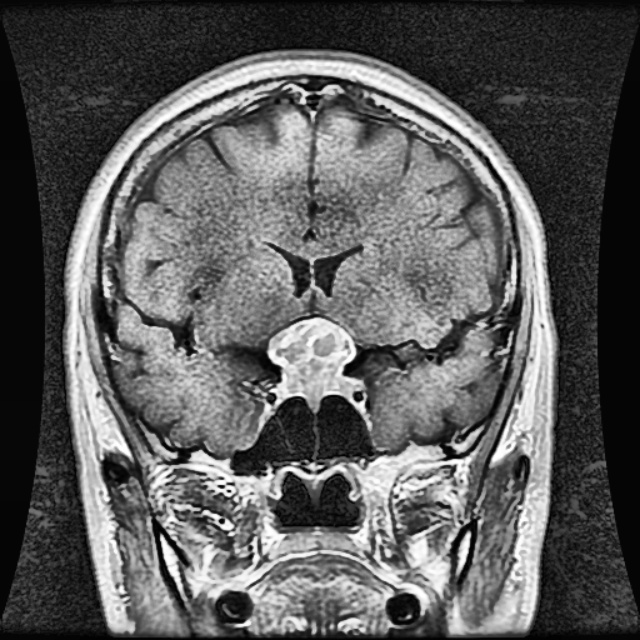Pituitary: (268, 317, 364, 412)
